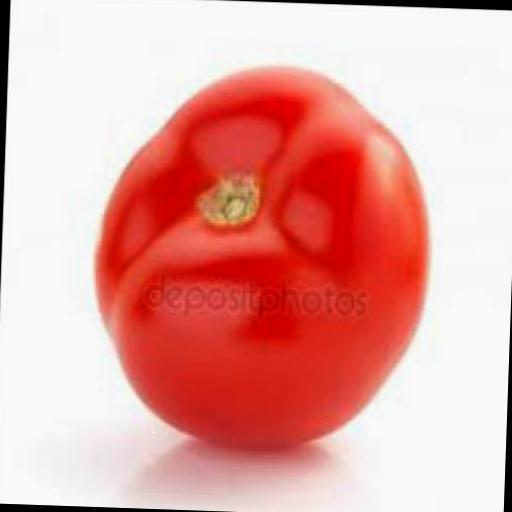biodegradable: (88, 56, 430, 451)
